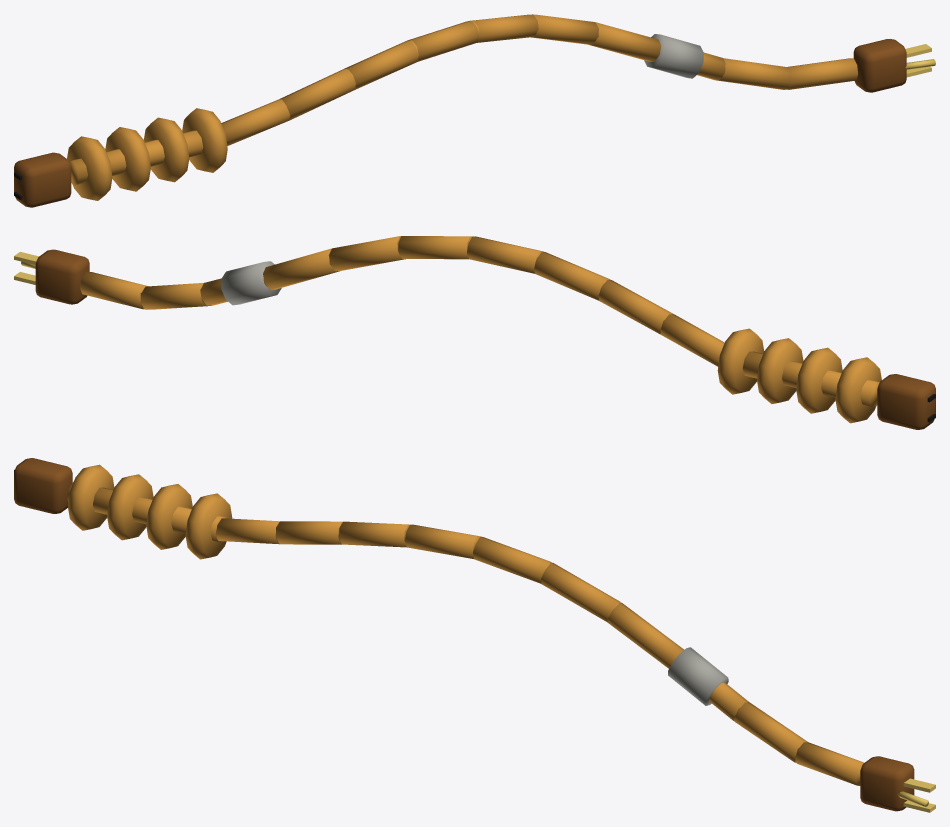
The model's file is item_extension_cord.glb.
3 renders of one model, top to bottom at view 1: azimuth 30°, elevation 25°; view 2: azimuth 150°, elevation 25°; view 3: azimuth 330°, elevation 25°, orthographic. The views are drawn at different scales.
Visible parts, largest first — view 1: socket, hang_end_plug, turn_0, turn_1, turn_3, turn_2, hang_1, hang_2, hang_mend, hang_0, hang_8, hang_9 (+6 smaller); view 2: socket, hang_end_plug, turn_0, turn_1, turn_2, turn_3, hang_1, hang_2, hang_6, hang_5, hang_3, hang_mend (+6 smaller); view 3: socket, hang_end_plug, hang_6, turn_3, hang_5, turn_1, turn_2, turn_0, hang_mend, hang_8, hang_4, hang_3 (+6 smaller).
Part boxes in pixels (x1=…): socket: x1=14, y1=152, x2=71, y2=207; hang_end_plug: x1=853, y1=39, x2=906, y2=92; turn_0: x1=67, y1=136, x2=112, y2=200; turn_1: x1=105, y1=127, x2=150, y2=191; turn_3: x1=182, y1=108, x2=227, y2=172; turn_2: x1=144, y1=117, x2=189, y2=182; hang_1: x1=279, y1=68, x2=355, y2=120; hang_2: x1=344, y1=41, x2=418, y2=89; hang_mend: x1=644, y1=34, x2=703, y2=78; hang_0: x1=221, y1=99, x2=289, y2=145; hang_8: x1=716, y1=58, x2=791, y2=89; hang_9: x1=788, y1=58, x2=857, y2=89; socket: x1=877, y1=374, x2=935, y2=429; hang_end_plug: x1=35, y1=249, x2=89, y2=304; turn_0: x1=835, y1=357, x2=881, y2=423; turn_1: x1=796, y1=347, x2=842, y2=413; turn_2: x1=757, y1=338, x2=803, y2=403; turn_3: x1=717, y1=328, x2=764, y2=394; hang_1: x1=598, y1=280, x2=673, y2=334; hang_2: x1=534, y1=252, x2=610, y2=300; hang_6: x1=263, y1=248, x2=339, y2=289; hang_5: x1=329, y1=236, x2=405, y2=271; hang_3: x1=467, y1=236, x2=543, y2=273; hang_mend: x1=221, y1=261, x2=281, y2=305; socket: x1=14, y1=458, x2=72, y2=513; hang_end_plug: x1=860, y1=756, x2=914, y2=811; hang_6: x1=607, y1=602, x2=683, y2=668; turn_3: x1=185, y1=493, x2=232, y2=559; hang_5: x1=541, y1=563, x2=620, y2=622; turn_1: x1=107, y1=474, x2=153, y2=540; turn_2: x1=146, y1=484, x2=192, y2=549; turn_0: x1=68, y1=464, x2=114, y2=530; hang_mend: x1=668, y1=647, x2=728, y2=705; hang_8: x1=734, y1=702, x2=807, y2=762; hang_4: x1=473, y1=537, x2=551, y2=583; hang_3: x1=405, y1=524, x2=480, y2=558.
Size of the model in its own units: 1.06 by 0.1803 by 0.068.
